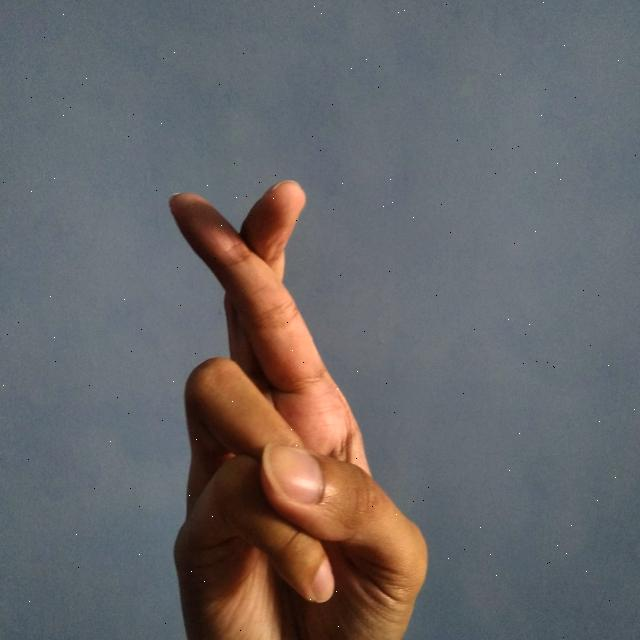R: (166, 176, 437, 640)
